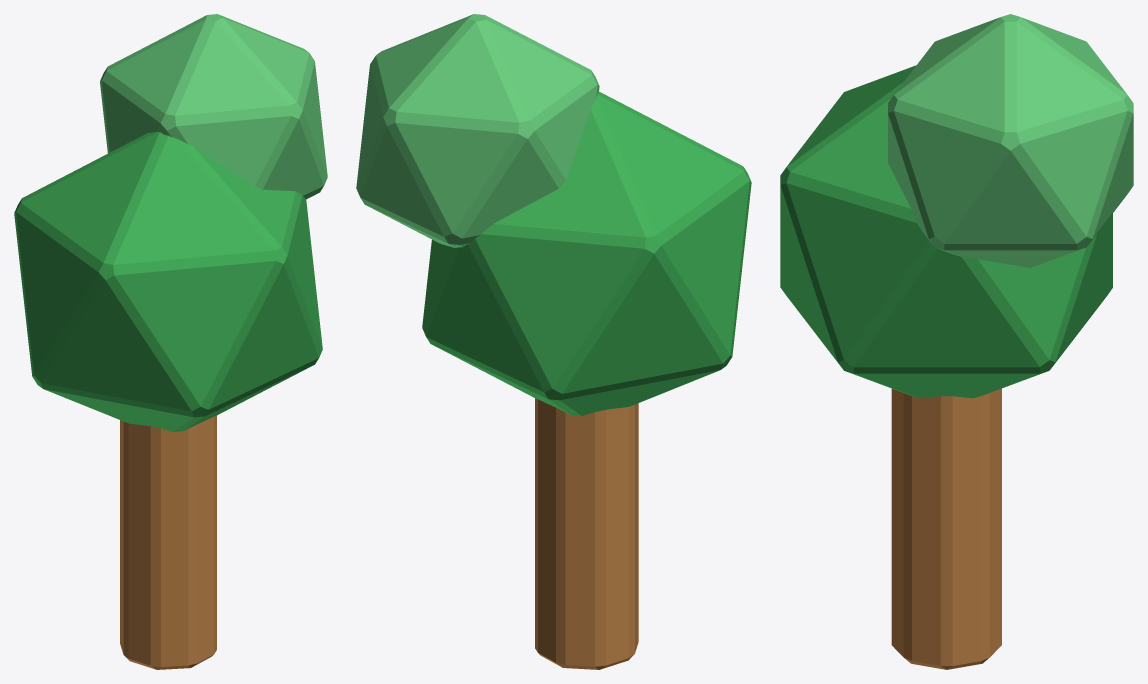
Rendered from park_tree.glb.
3 views of the same model, side by side, from view 1: azimuth 30°, elevation 25°; view 2: azimuth 150°, elevation 25°; view 3: azimuth 270°, elevation 25° (orthographic). The views are drawn at different scales.
Visible parts, largest first — view 1: park_tree; view 2: park_tree; view 3: park_tree.
Boxes of the visible parts, x1,y1,x2,y2 form: park_tree: [14, 14, 327, 669]; park_tree: [356, 14, 751, 669]; park_tree: [780, 14, 1133, 669].
Bounding box in the file's own units: 0.3127 × 0.5789 × 0.2761.
